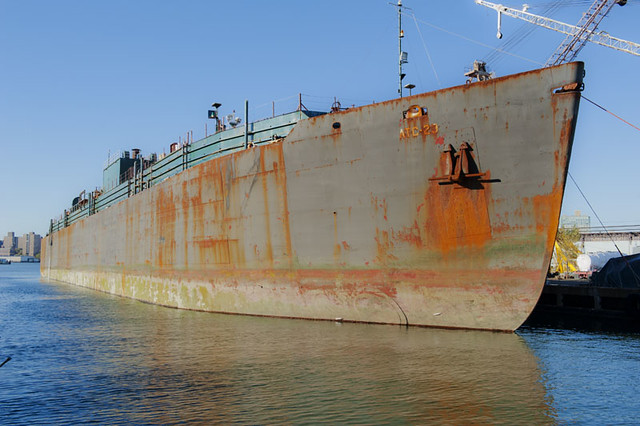rust: (431, 153, 474, 243), (195, 167, 234, 265), (153, 191, 174, 264), (535, 196, 558, 239), (406, 106, 425, 137), (331, 123, 344, 141)
